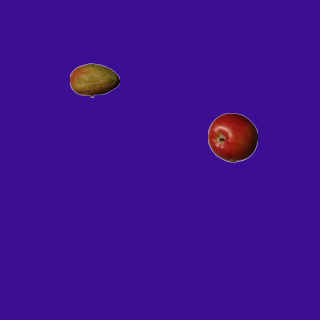Apple Braeburn: (207, 112, 257, 162)
Papaya: (69, 55, 119, 105)
